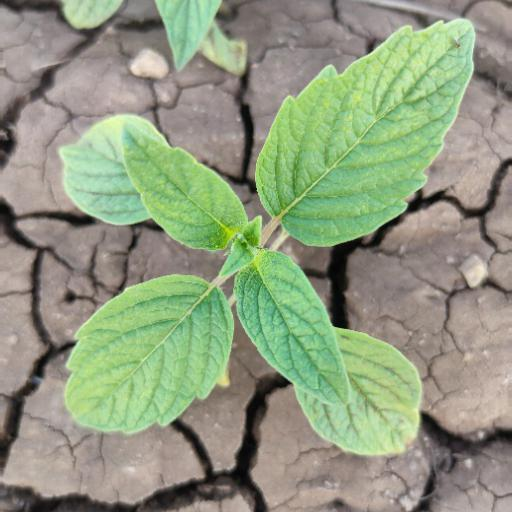crop: (50, 26, 468, 454)
